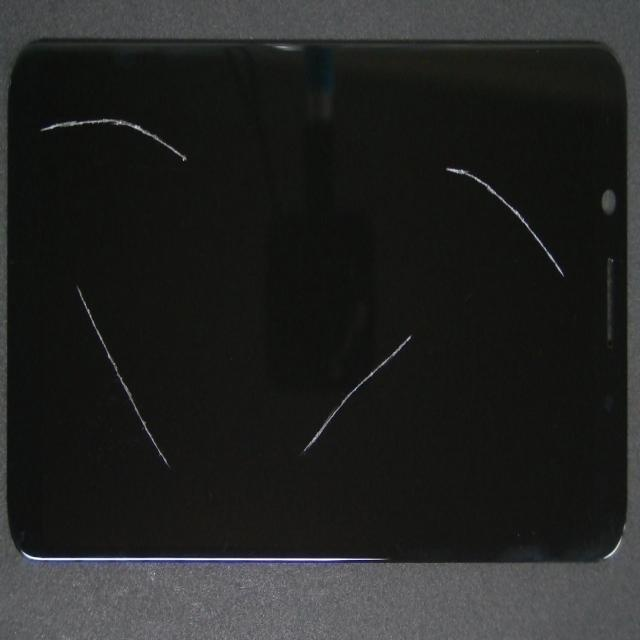scratch: (274, 88, 566, 532), (94, 103, 290, 265), (144, 344, 220, 597)
